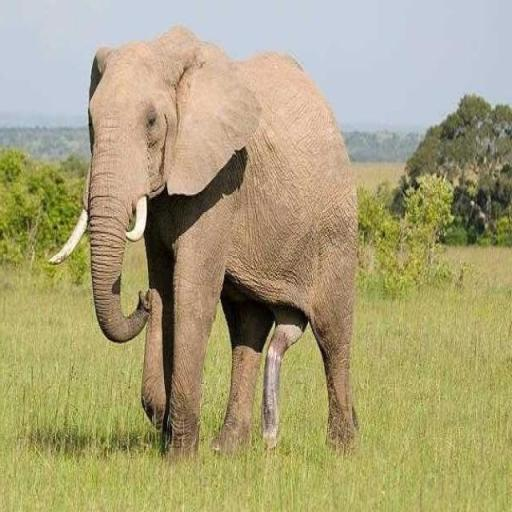Elephant: (48, 22, 358, 462)
